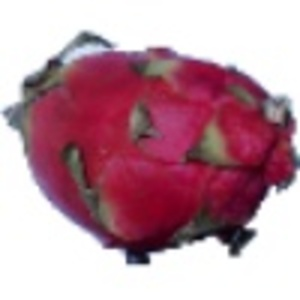pitaia: (1, 30, 300, 269)
